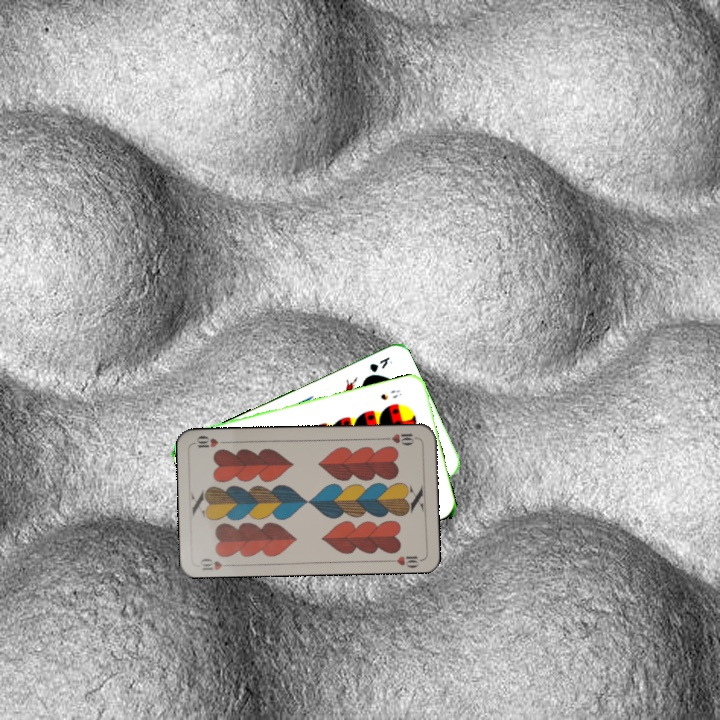GK: (365, 353, 392, 375)
H10: (196, 554, 235, 573), (380, 429, 421, 447)
S8: (377, 386, 404, 402)
